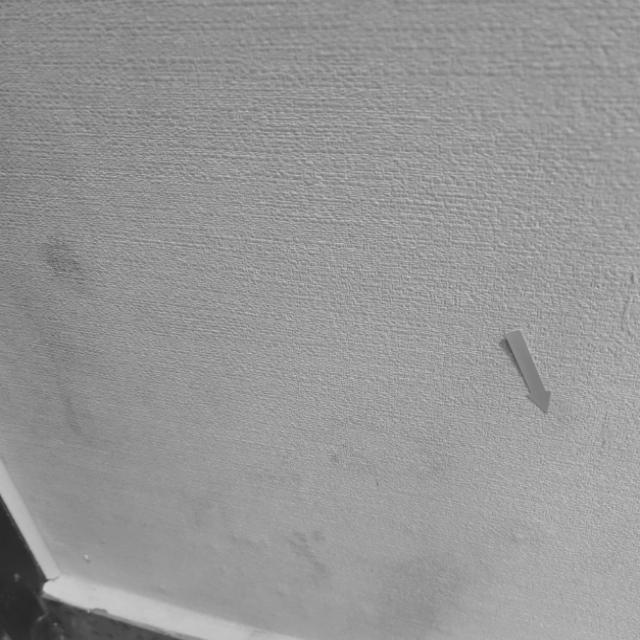stain marks: (167, 420, 494, 626), (28, 132, 140, 480), (606, 257, 640, 481)
